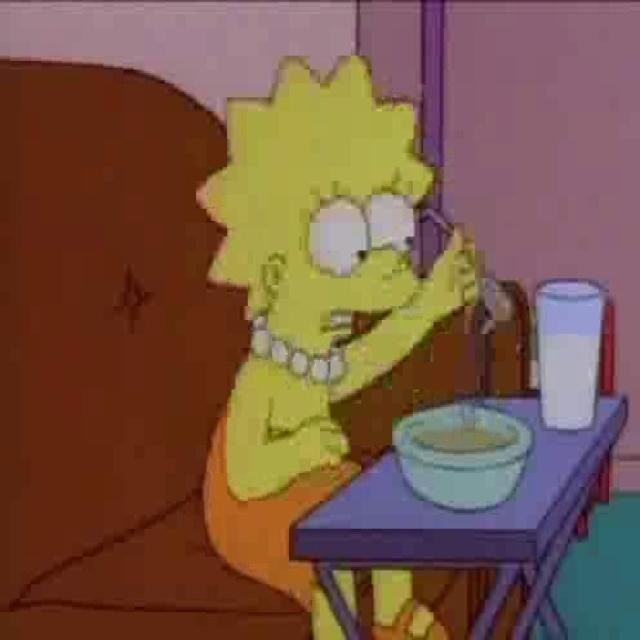Lisa Simpson: (197, 53, 433, 368)
